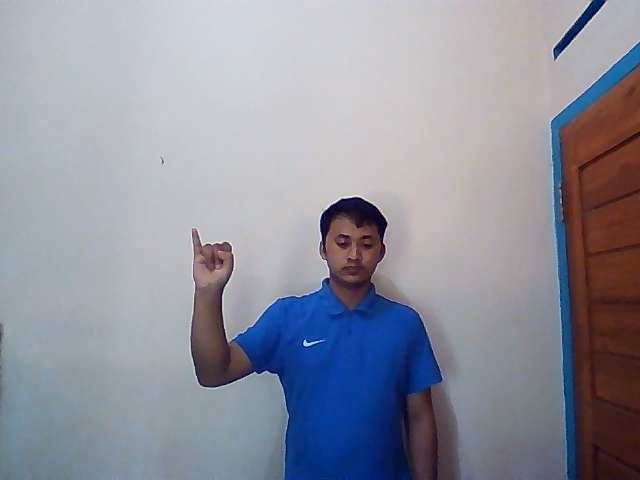I: (191, 227, 236, 285)
